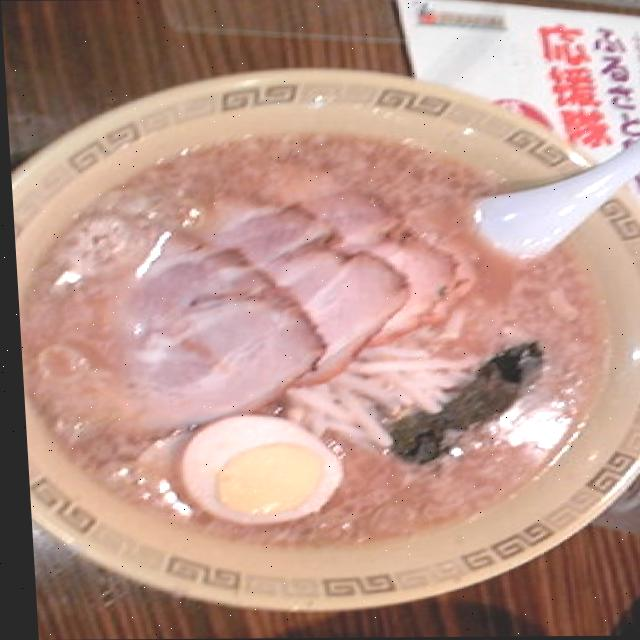面条主食: (3, 62, 640, 604)
